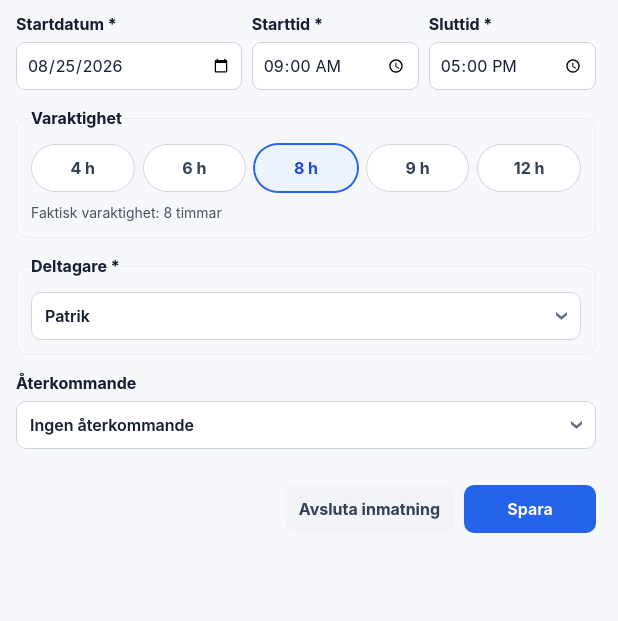
Scenario: JobShiftQuickEntryForm › blockerar save om systemkategorin Arbete saknas
The image size is (618, 621).
Click the button "Spara".
click(530, 509)  # box [464,485,596,533]
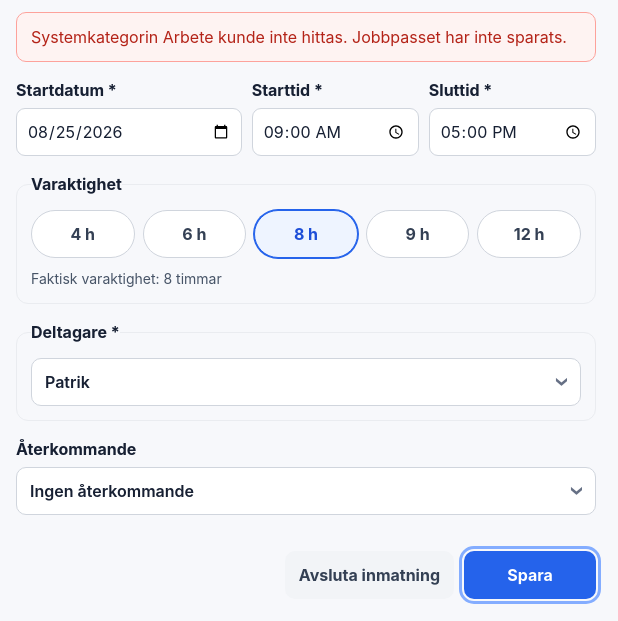
Expected: the text "Systemkategorin Arbete kunde inte hittas. Jobbpasset har inte sparats." is shown, [16,12,596,62]
